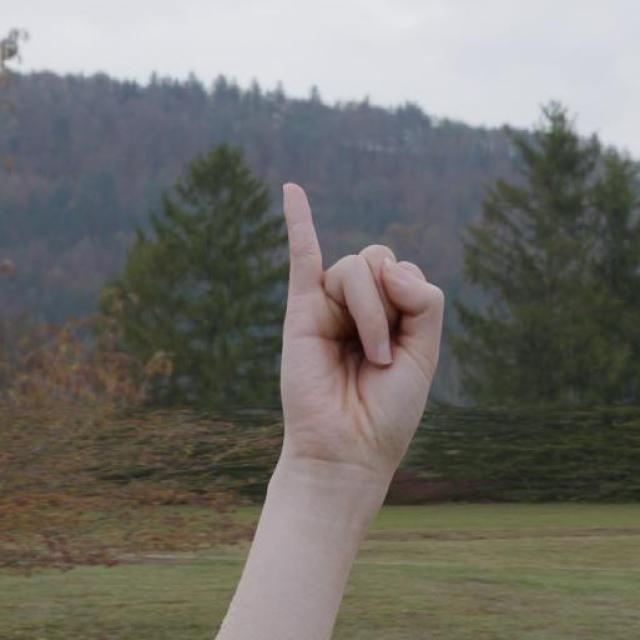I: (278, 176, 447, 446)
